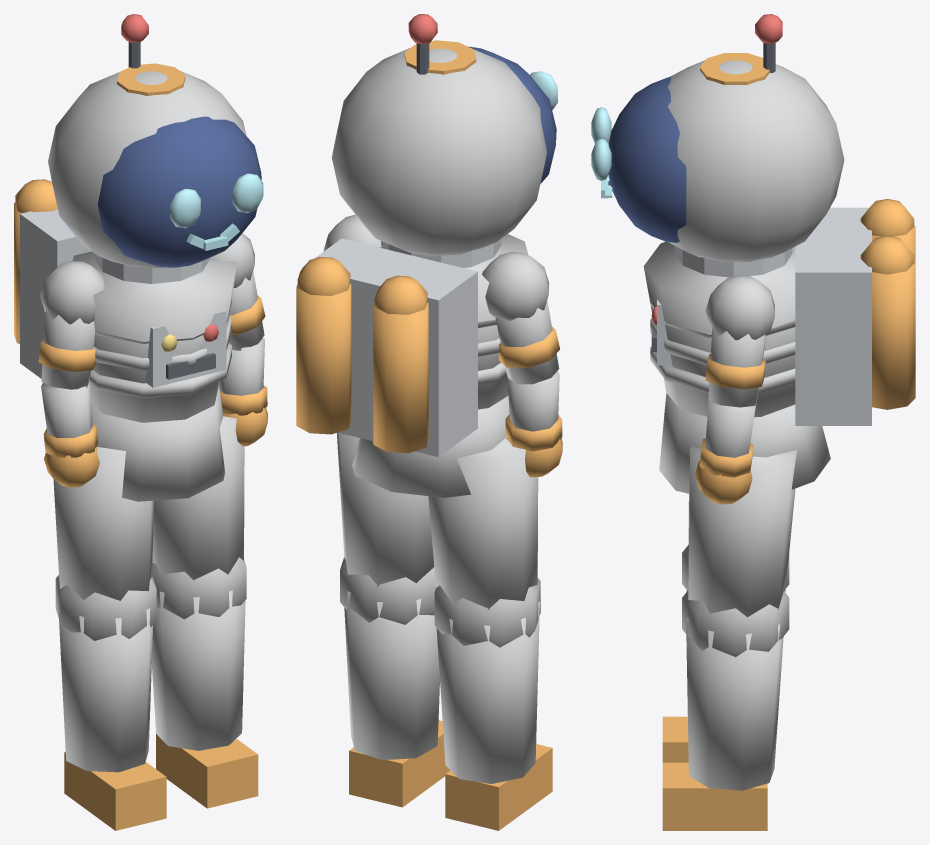
The model's file is meeple_04_astronaut_stand.glb.
The picture shows the model from 3 angles, left to right: view 1: azimuth 30°, elevation 25°; view 2: azimuth 150°, elevation 25°; view 3: azimuth 270°, elevation 25°; orthographic projection. The views are drawn at different scales.
Visible parts, largest first — view 1: meeple_04_astronaut_stand; view 2: meeple_04_astronaut_stand; view 3: meeple_04_astronaut_stand.
Part boxes in pixels (x1,y1,x2,y2): meeple_04_astronaut_stand: (14, 14, 267, 830); meeple_04_astronaut_stand: (296, 14, 562, 830); meeple_04_astronaut_stand: (591, 14, 915, 830).
Size of the model in its own units: 0.5032 by 1.68 by 0.6329.
